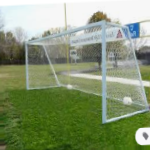goals: (23, 17, 150, 126)
